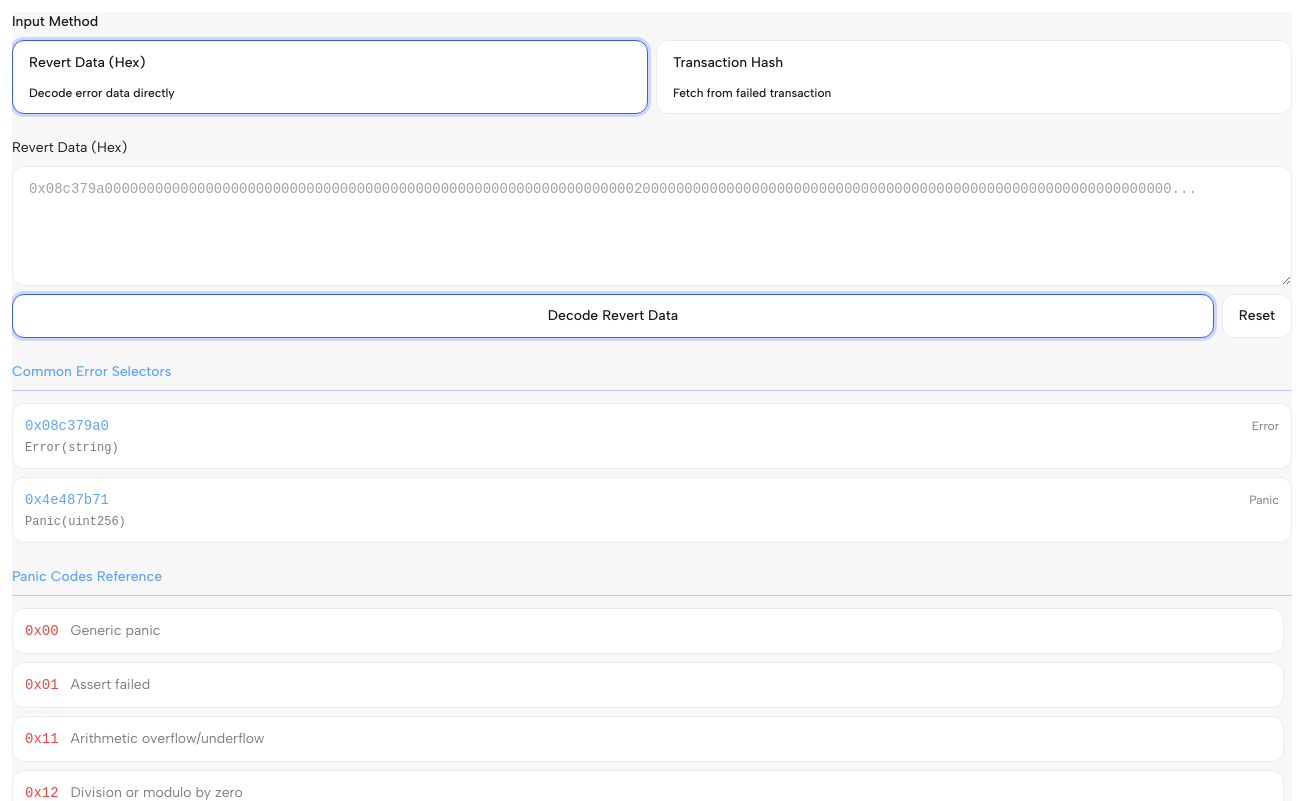
Scenario: RevertReasonDecoderTool › shows error for invalid data format
Replace the text in the text box with placeholder "0x08c379a0" with "0x123" at (652, 226), box [12,166,1292,286]
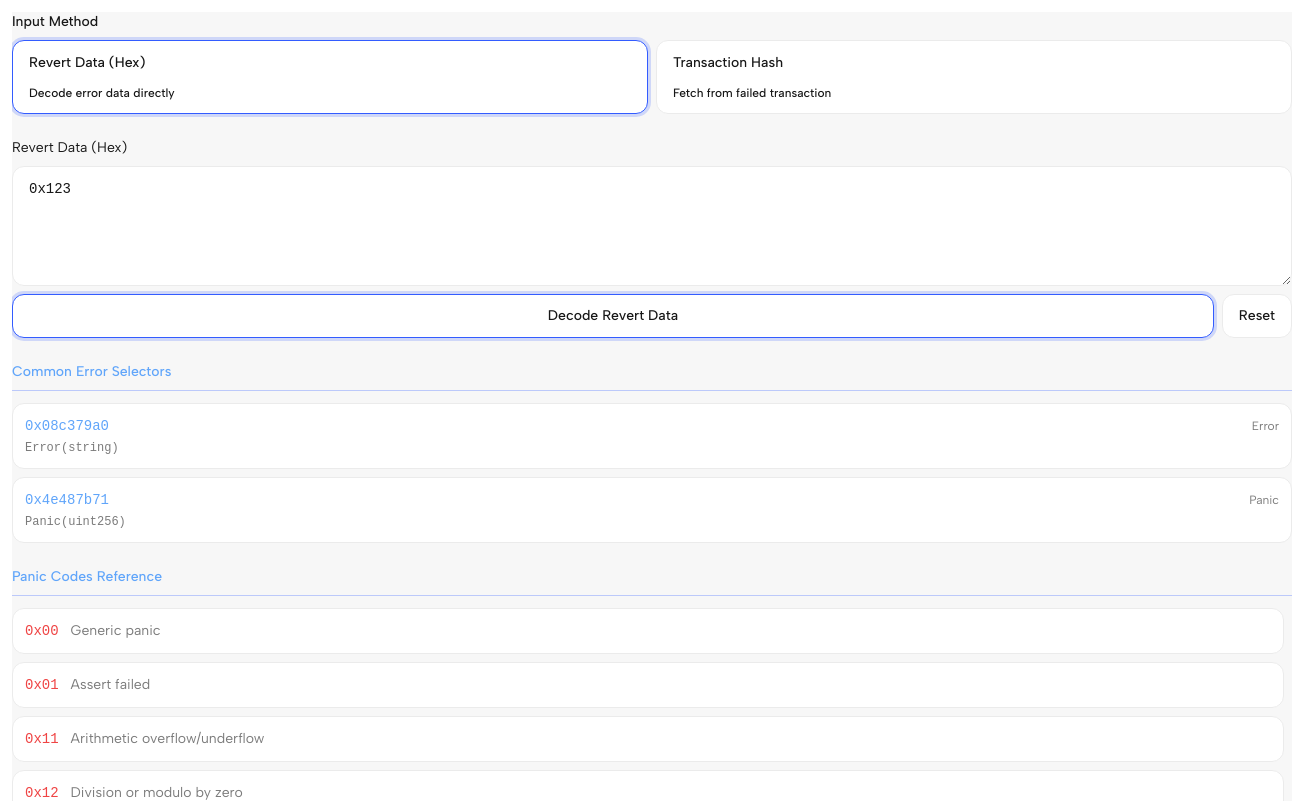
Click the button "Decode Revert Data" at (613, 316), box [12,294,1214,338]
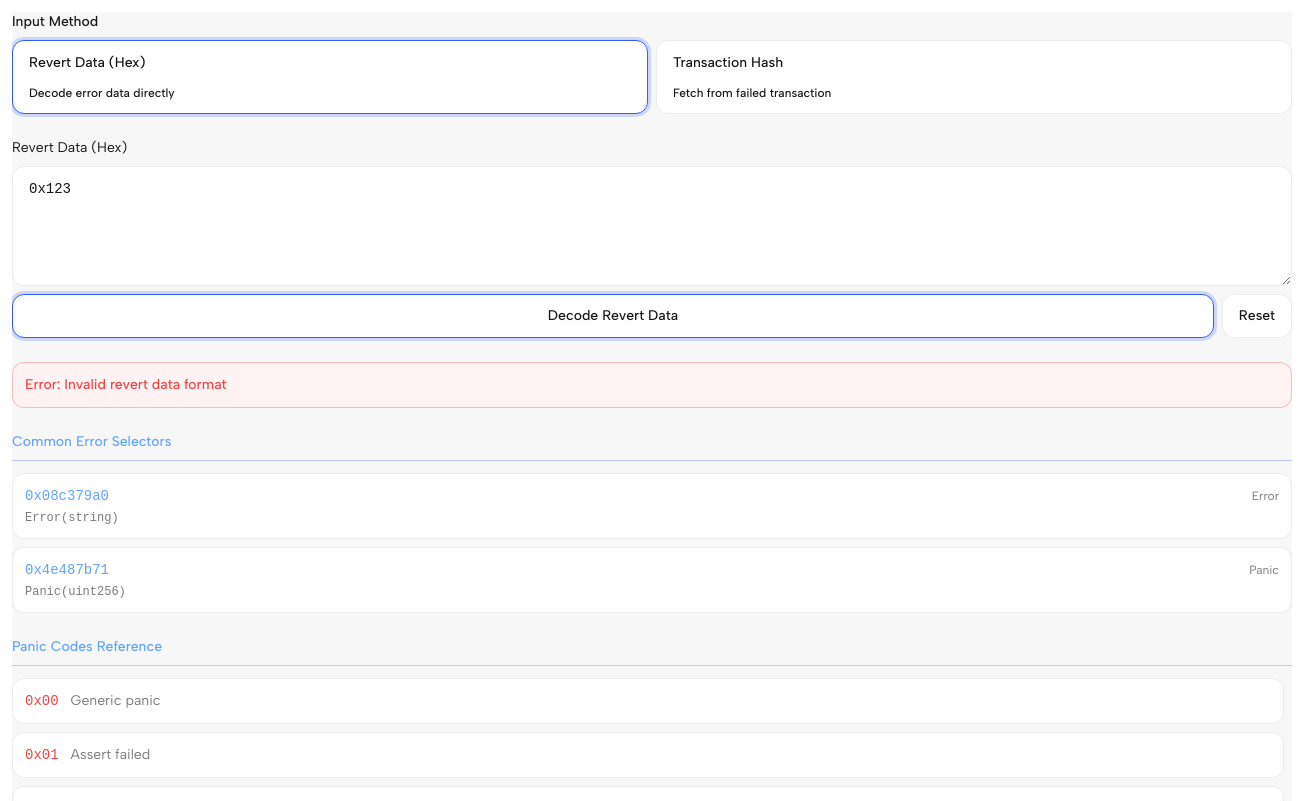
expect the text "Error: Invalid revert data format" is shown: met, box [25,376,226,393]
